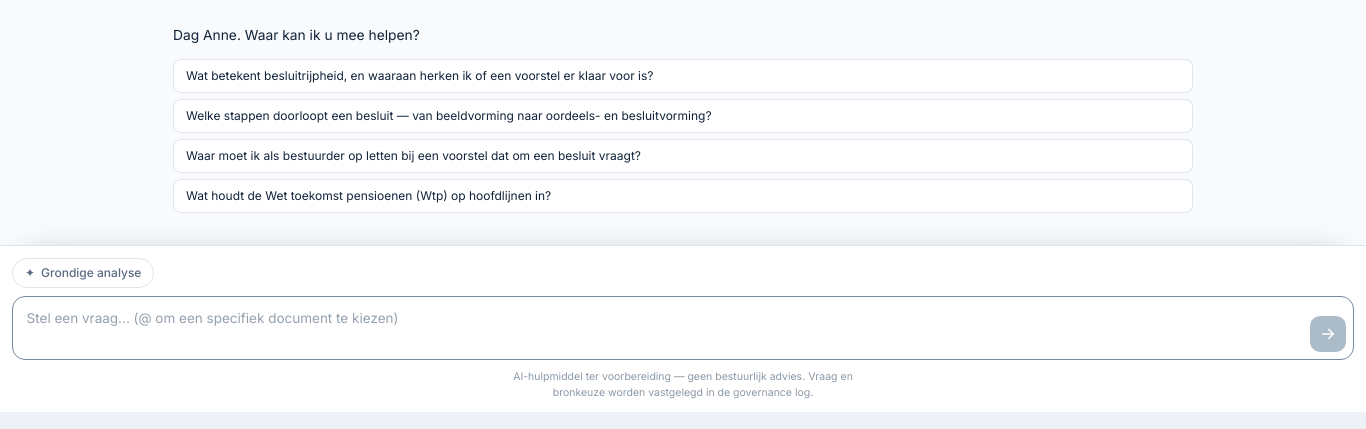
Test case: AssistentClient — SSE-verwerking › toont een foutevent als bericht wanneer er nog geen antwoord staat
The width and height of the screenshot is (1366, 429).
Step 1. Type "Wat is onze dekkingsgraad?" into the text box with placeholder "Stel een vraag... (@ om een specifiek document te kiezen)" → (683, 328), box [13, 297, 1353, 360]
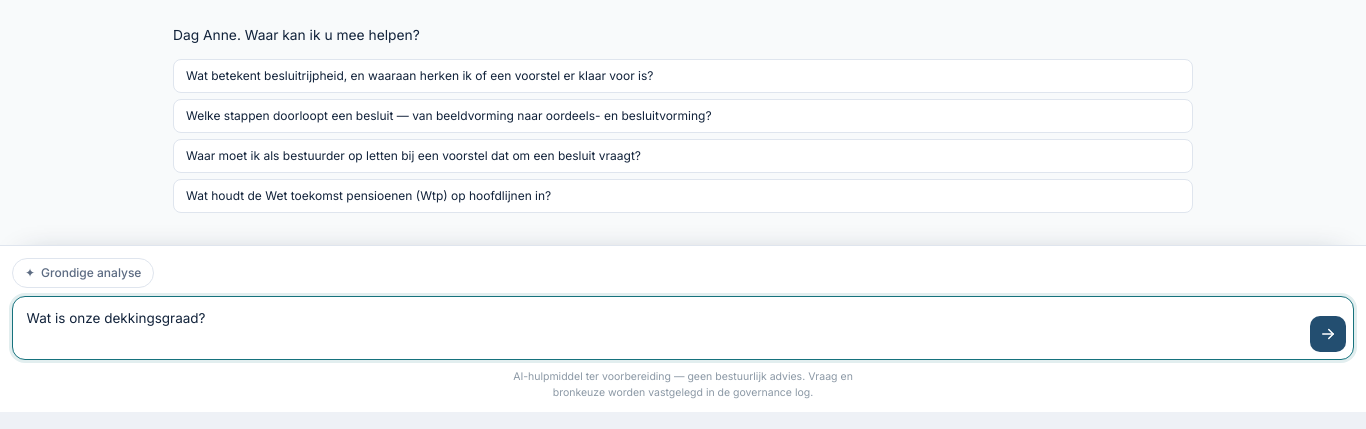
Step 2. Click the button named "Vraag versturen" → (1328, 334), box [1310, 316, 1346, 352]
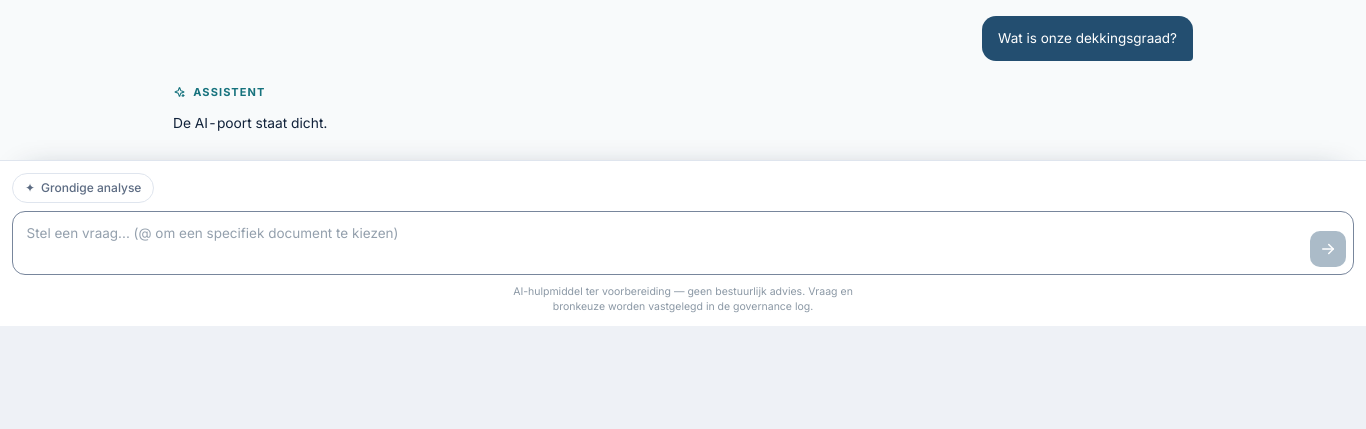
Expected: the text "De AI-poort staat dicht." is shown, [173, 115, 327, 131]
